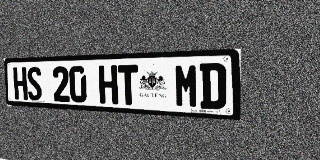0: (69, 66, 87, 103)
2: (53, 66, 70, 102)
D: (200, 63, 226, 110)
H: (98, 65, 118, 104), (13, 67, 28, 100)
M: (174, 63, 199, 108)
S: (27, 67, 42, 101)
T: (118, 65, 139, 105)
